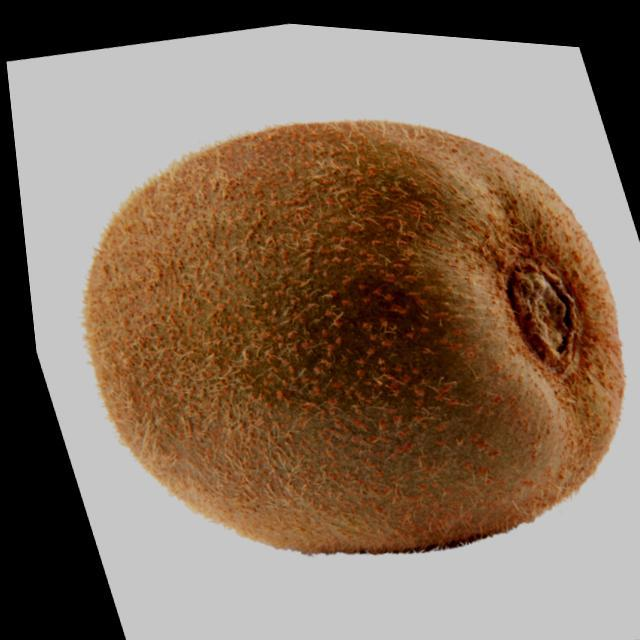kiwi: (15, 42, 640, 624)
